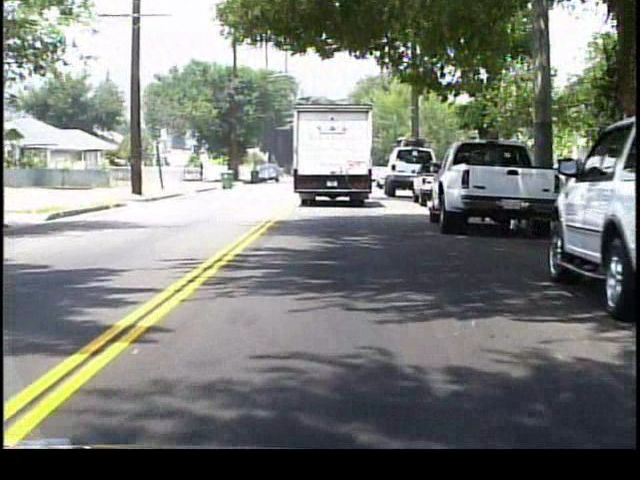person: (198, 162, 208, 185)
